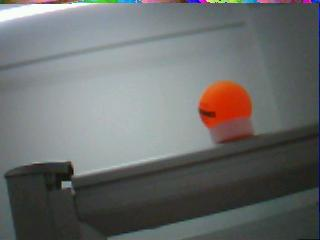oball: (199, 81, 252, 126)
